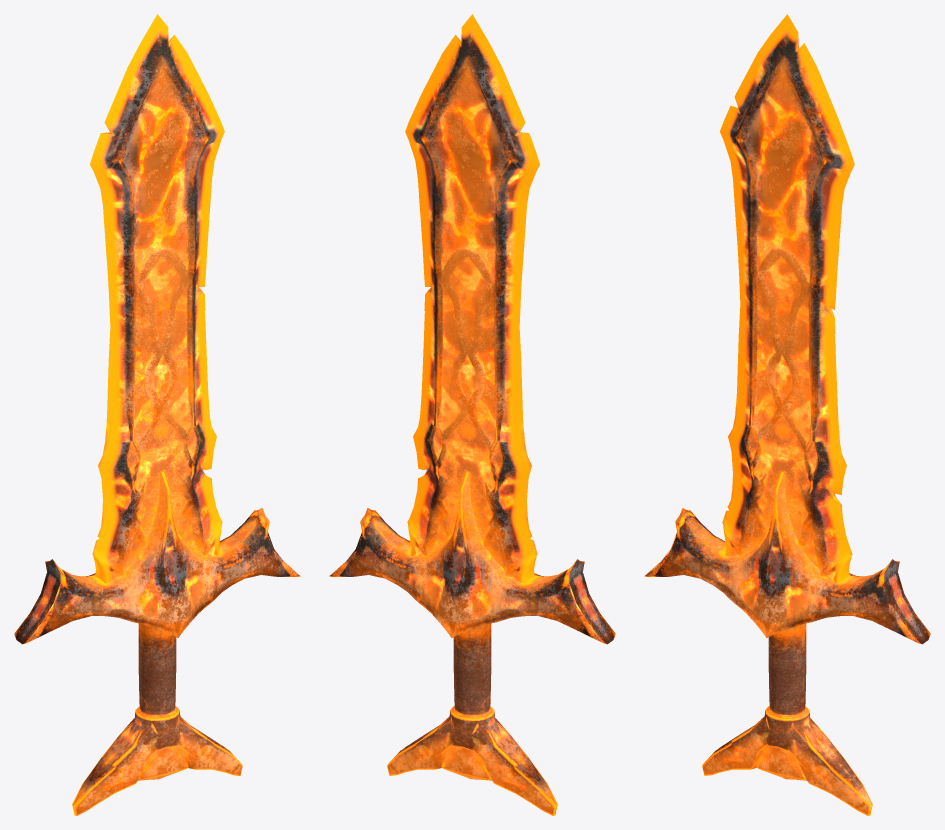
File: Sword1.fbx
3 views of the same model, side by side, from view 1: azimuth 30°, elevation 25°; view 2: azimuth 150°, elevation 25°; view 3: azimuth 330°, elevation 25° (orthographic).
Visible parts, largest first — view 1: Top; view 2: Top; view 3: Top.
Part boxes in pixels (left/top/right/bottom): Top: left=14, top=14, right=300, bottom=815; Top: left=329, top=14, right=615, bottom=815; Top: left=644, top=14, right=930, bottom=815.
Bounding box in the file's own units: 0.9484 × 2.56 × 0.2472.
1 material, 1 textured.
